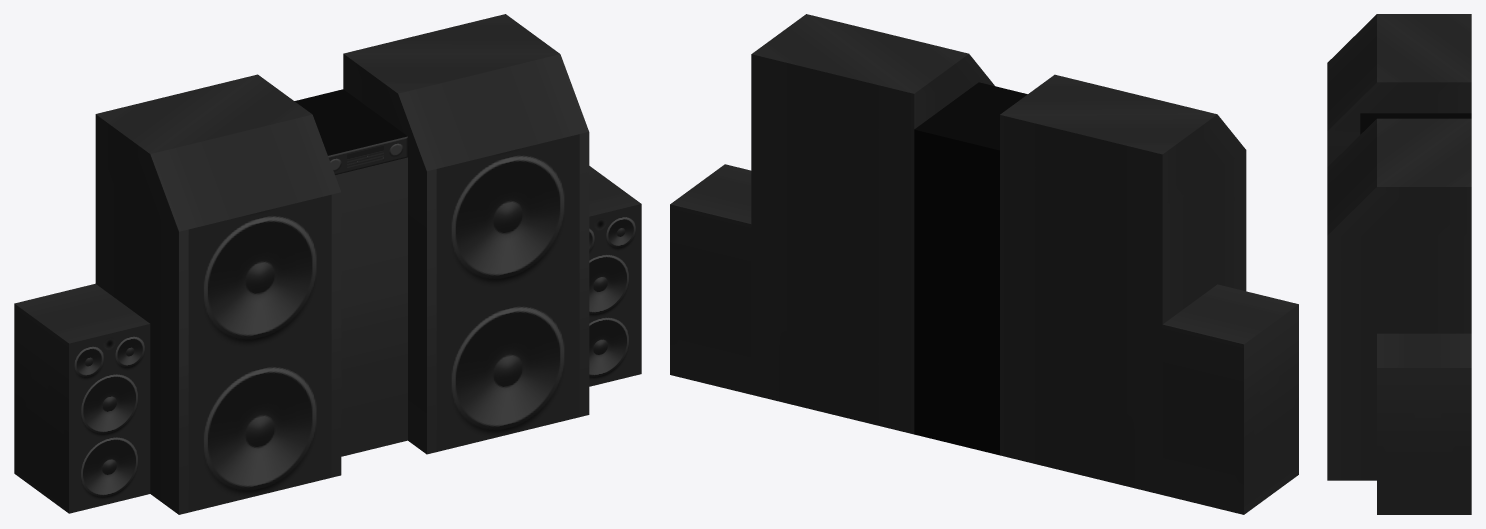
File: InteriorItem_005.fbx
3 renders of one model, left to right at view 1: azimuth 30°, elevation 25°; view 2: azimuth 150°, elevation 25°; view 3: azimuth 270°, elevation 25°, orthographic. The views are drawn at different scales.
Parts seen in each view (by area): view 1: InteriorItem_005; view 2: InteriorItem_005; view 3: InteriorItem_005.
Boxes of the visible parts, box(x1,y1,x2,y2) form: InteriorItem_005: box(14, 14, 641, 514); InteriorItem_005: box(670, 14, 1298, 514); InteriorItem_005: box(1327, 14, 1471, 514).
Size of the model in its own units: 212 by 120 by 53.45.
